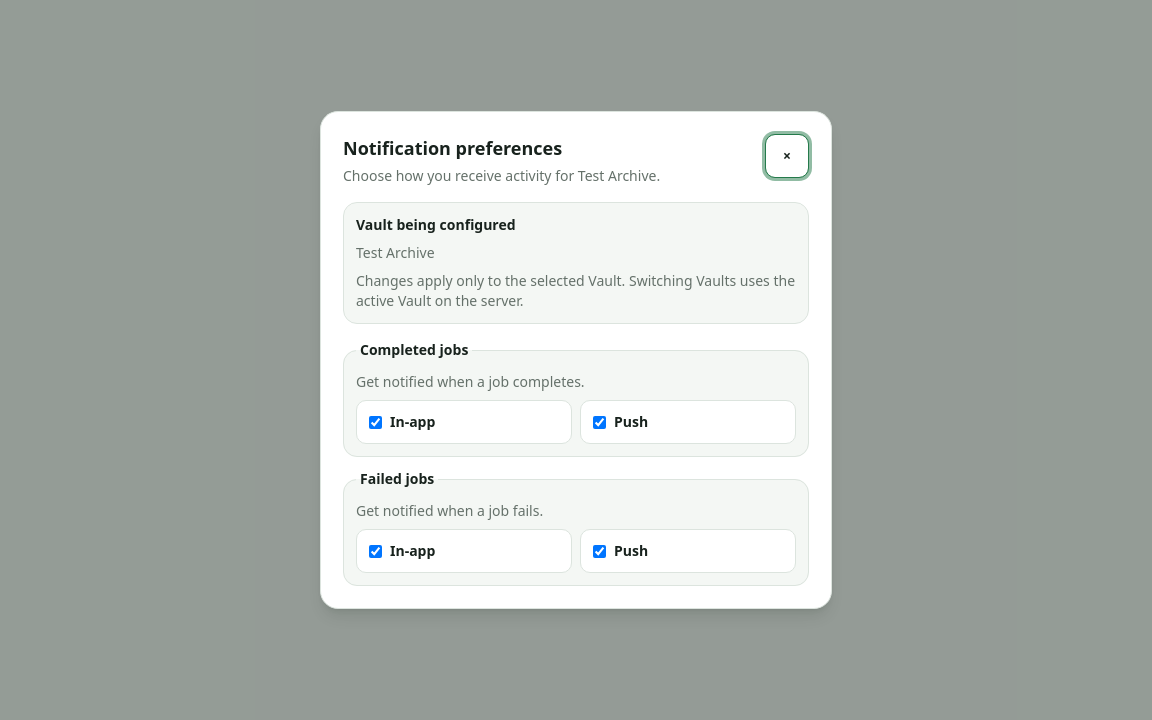
Test: notification preferences surface (#226) › rolls back a failed preference save
The image size is (1152, 720).
What coordinates should you click on to do the following:
click the checkbox named "Failed jobs: Push"
I would click on:
 (600, 551)
Its box is [593, 544, 606, 558].
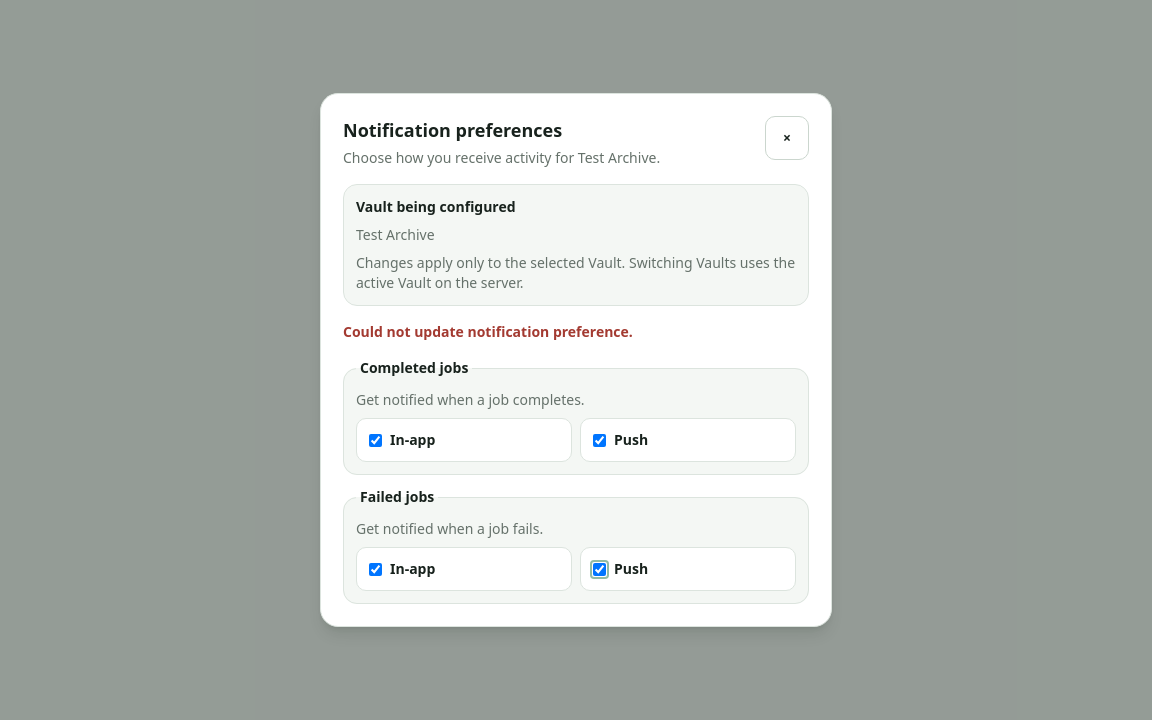
Check: the checkbox named "Failed jobs: Push" is checked, box [593, 562, 606, 576]
Check: the message reads "Could not update notification preference.", box [343, 322, 633, 341]
